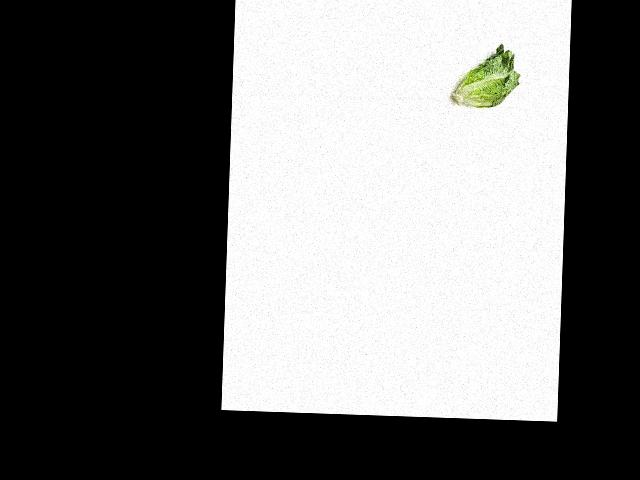lettuce: (453, 42, 524, 111)
